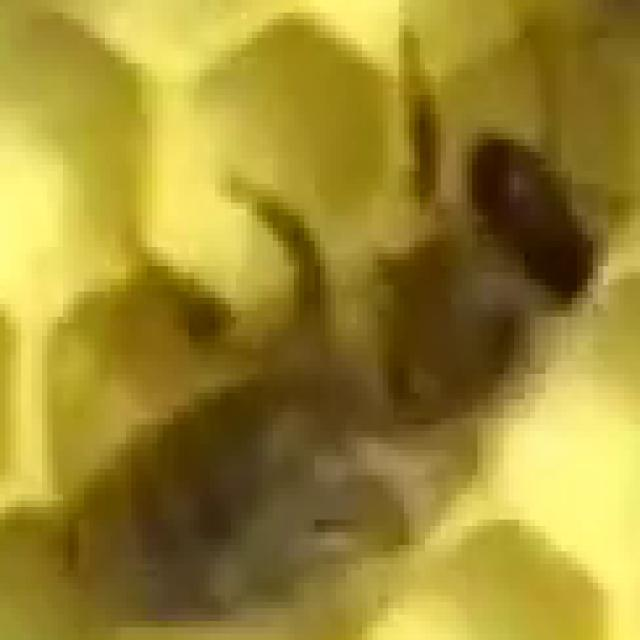honeybee: (58, 67, 612, 627)
